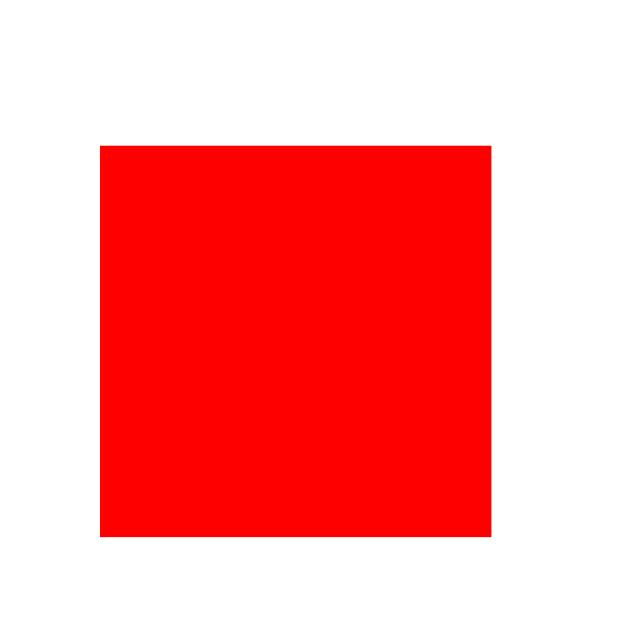square: (67, 121, 529, 570)
